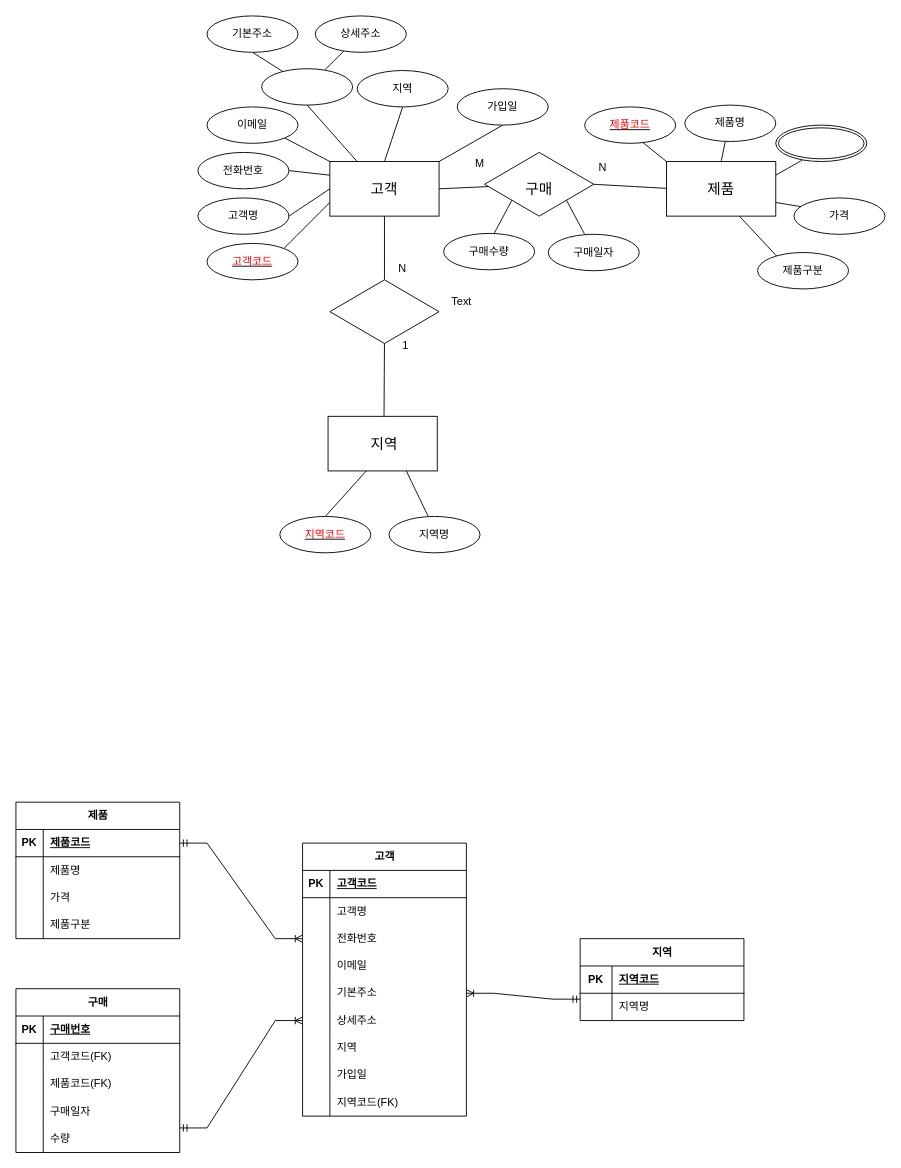
The diagram is 901 pixels wide and 1168 high, and some of its shapes have lost their labels. Each missing label, with the centre of its shape:
"관리" belongs at point 384,311.
"제품색상" belongs at point 821,143.
"주소" belongs at point 307,86.
